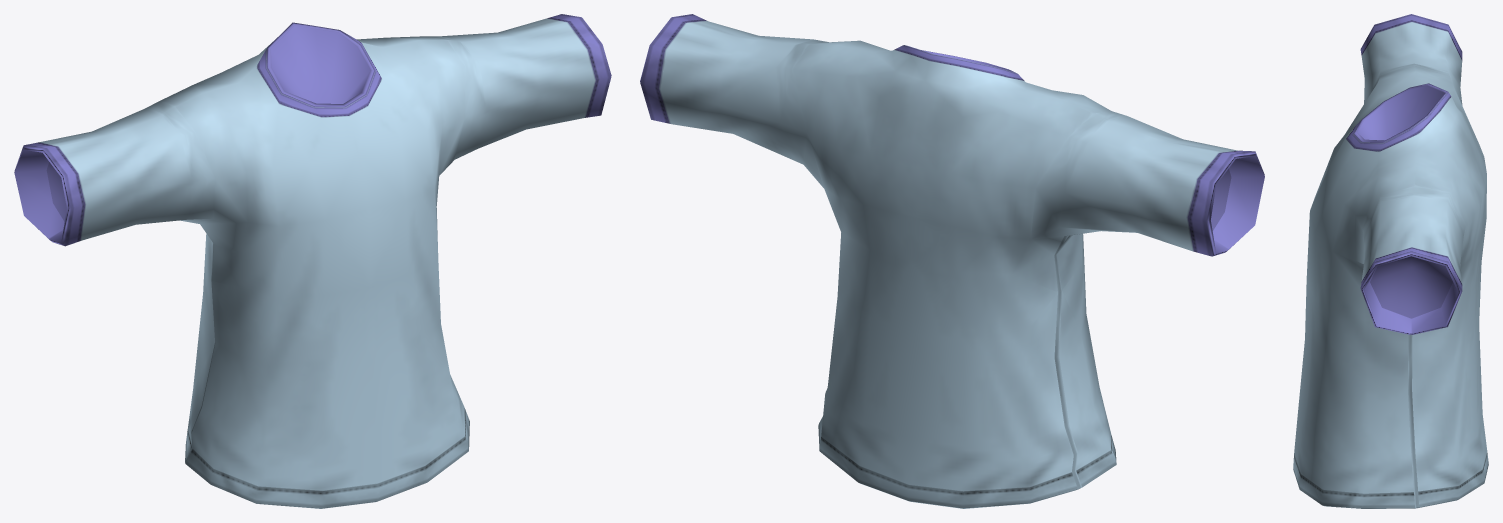
Rendered from male_tshirts1.glb.
3 renders of one model, left to right at view 1: azimuth 30°, elevation 25°; view 2: azimuth 150°, elevation 25°; view 3: azimuth 270°, elevation 25°, orthographic. The views are drawn at different scales.
Visible parts, largest first — view 1: node_id149; view 2: node_id149; view 3: node_id149.
Part boxes in pixels (box(x1,y1,x2,y2)): node_id149: box(14, 14, 611, 508); node_id149: box(640, 14, 1264, 508); node_id149: box(1293, 14, 1488, 508).
Bounding box in the file's own units: 0.512 × 0.3753 × 0.1754.
Materials: 1 (1 with a texture image).
